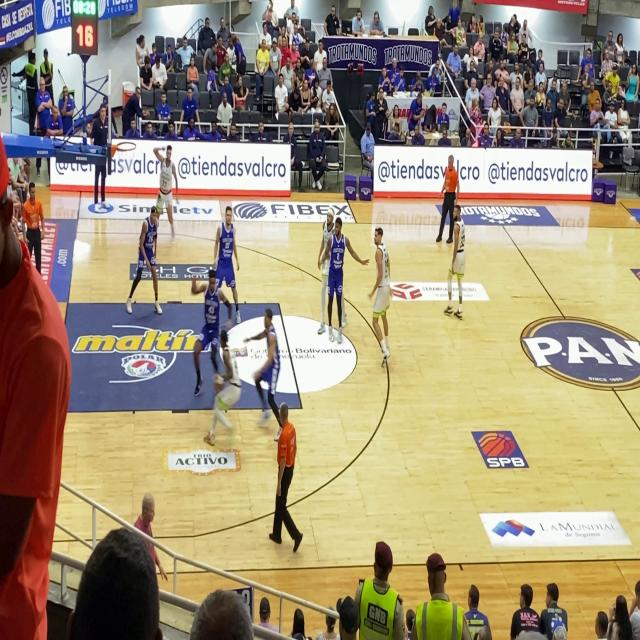referee: (261, 388, 304, 556), (425, 132, 463, 226), (19, 168, 50, 277)
team1: (368, 226, 399, 372), (206, 329, 243, 446), (439, 196, 469, 327), (153, 129, 186, 237), (314, 212, 332, 326)
team2: (324, 213, 354, 354), (190, 261, 223, 388), (214, 193, 247, 316), (252, 306, 285, 406)
ubasket: (115, 138, 138, 164)
